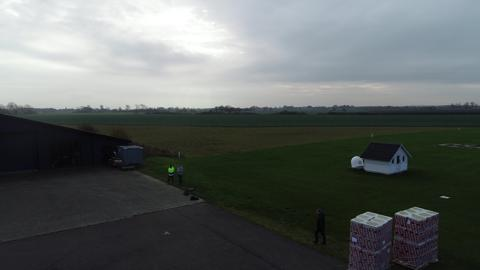RockwoolPallet: (395, 202, 439, 265)
